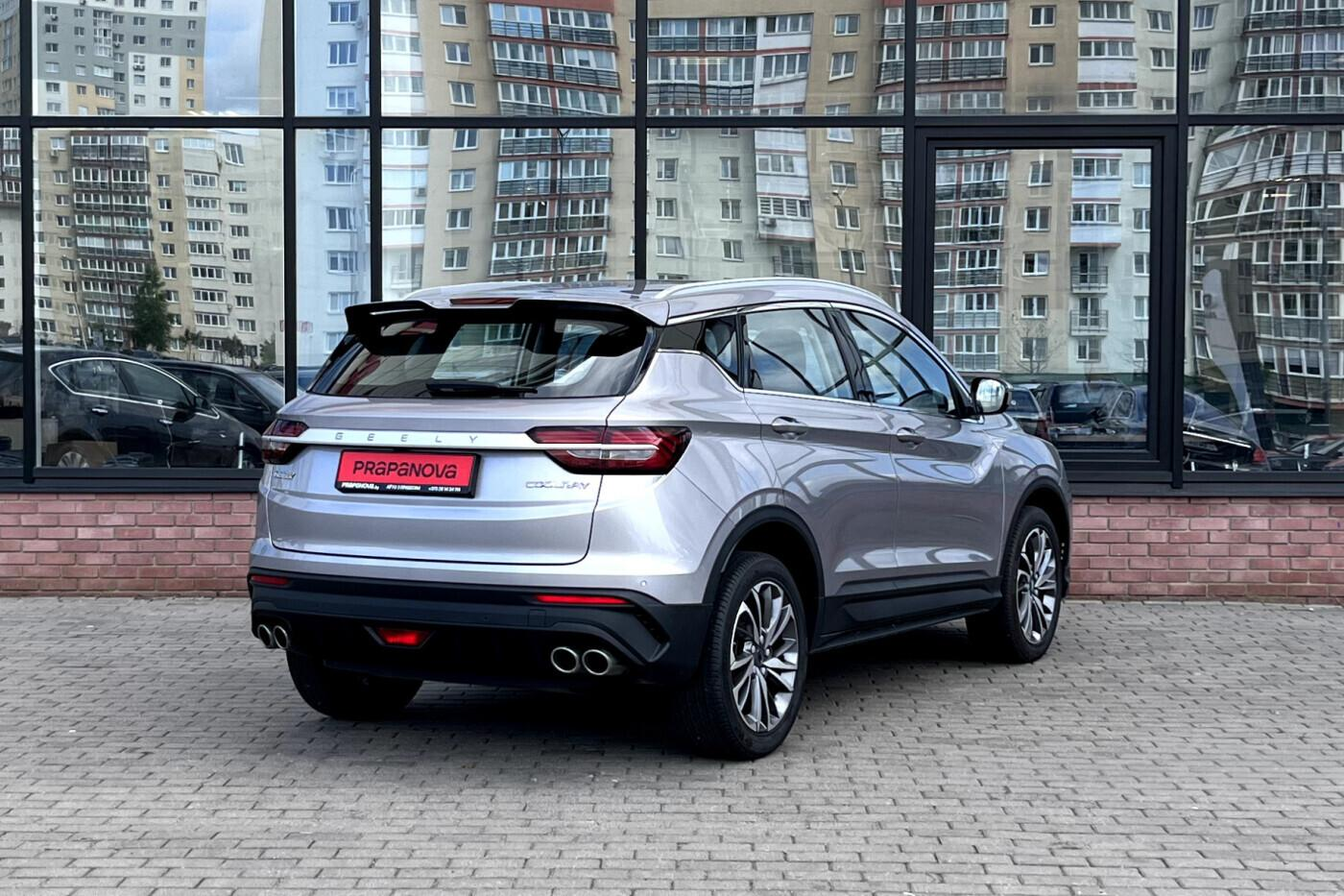Coolray_2019-2023: (238, 273, 1079, 759)
